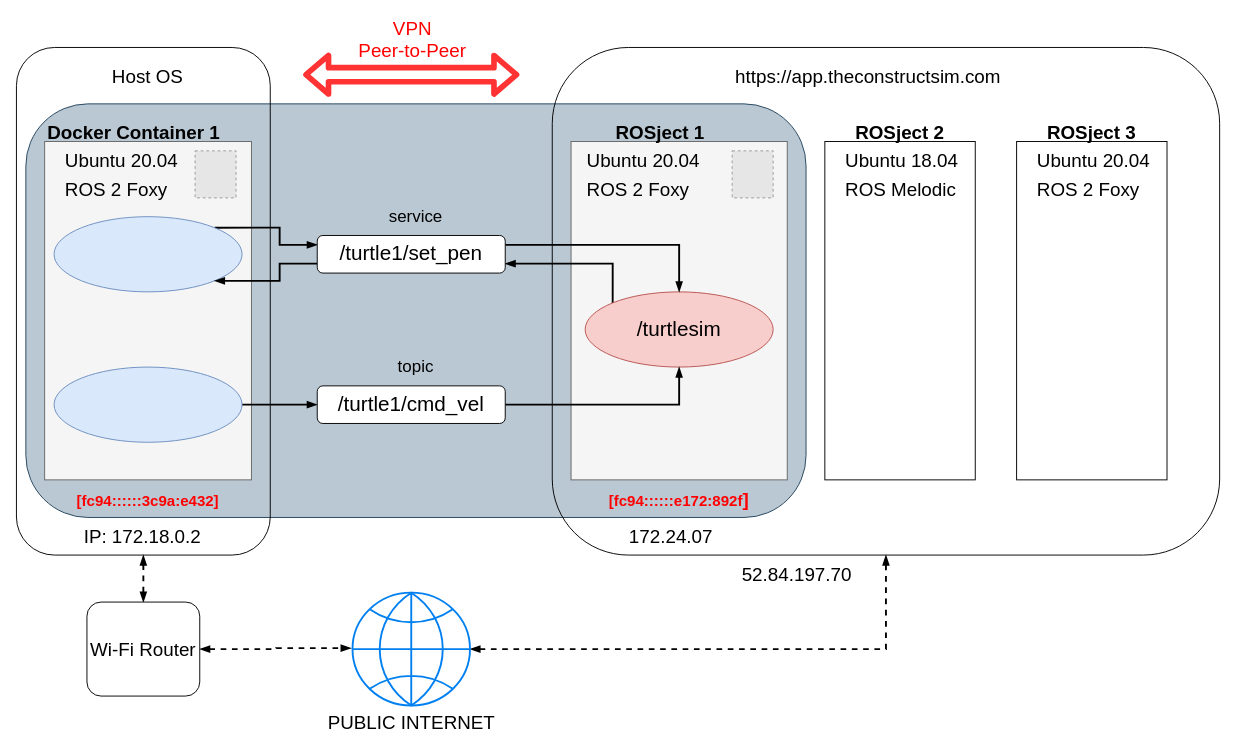
This 1236x751 diagram has some shape labels left out. Grey dashed boxes stand in for pictures. Here are the shapes that lost their labels. From the top down, the box of each, then its label:
(53, 216, 242, 292): /color_controller
(53, 366, 242, 442): /move_controller
